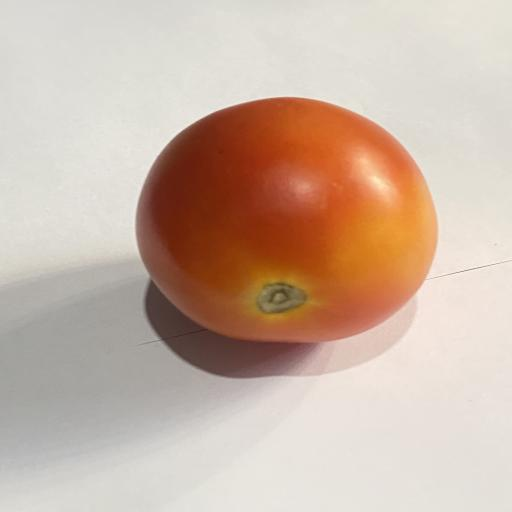ripe: (136, 97, 437, 343)
